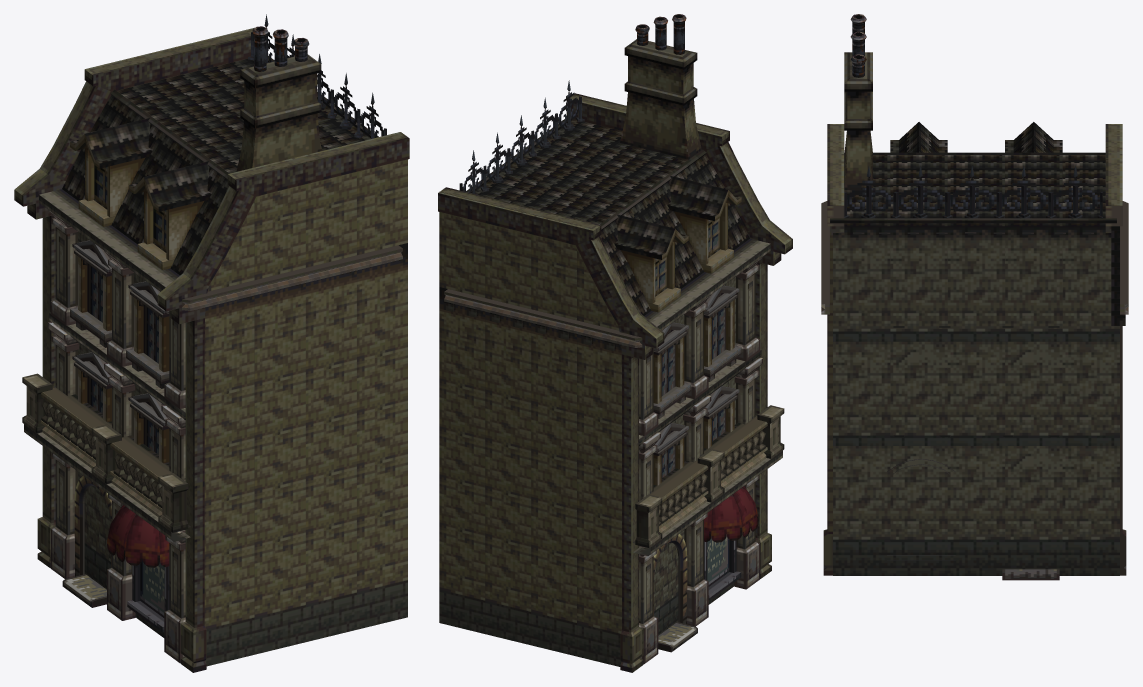
Rendered from EnvBdgMD_City_B_Outdoor_L_C_Arrange_C.FBX.
3 renders of one model, left to right at view 1: azimuth 30°, elevation 25°; view 2: azimuth 150°, elevation 25°; view 3: azimuth 270°, elevation 25°, orthographic. The views are drawn at different scales.
Parts seen in each view (by area): view 1: EnvBdgMD_City_B_Outdoor_L_C_Arrange_C; view 2: EnvBdgMD_City_B_Outdoor_L_C_Arrange_C; view 3: EnvBdgMD_City_B_Outdoor_L_C_Arrange_C.
Boxes of the visible parts, box(x1,y1,x2,y2) form: EnvBdgMD_City_B_Outdoor_L_C_Arrange_C: box(14, 14, 409, 672); EnvBdgMD_City_B_Outdoor_L_C_Arrange_C: box(438, 14, 792, 672); EnvBdgMD_City_B_Outdoor_L_C_Arrange_C: box(821, 14, 1128, 580).
Bounding box in the file's own units: 479 × 1140 × 535.
1 material, 1 textured.
